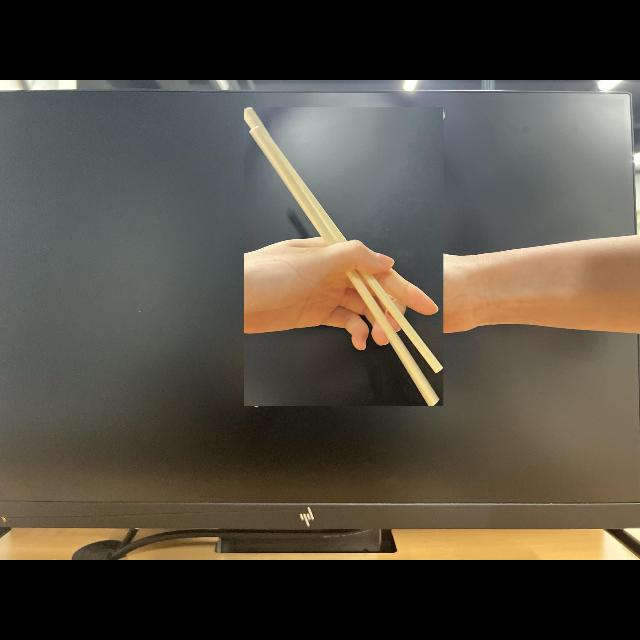stick: (244, 108, 443, 406)
